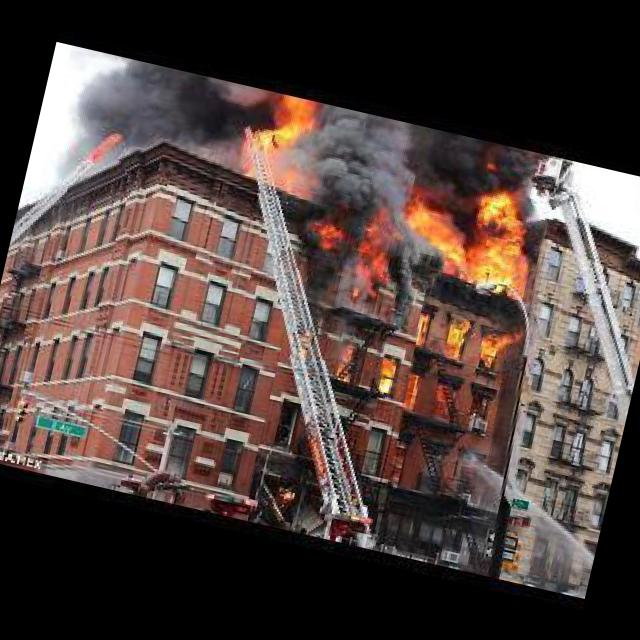Fire: (397, 162, 546, 292), (304, 219, 398, 296), (244, 87, 310, 180), (473, 320, 528, 380), (369, 352, 402, 398), (440, 312, 470, 362)
Smoke: (60, 39, 272, 218), (296, 99, 432, 236), (422, 132, 544, 245)
